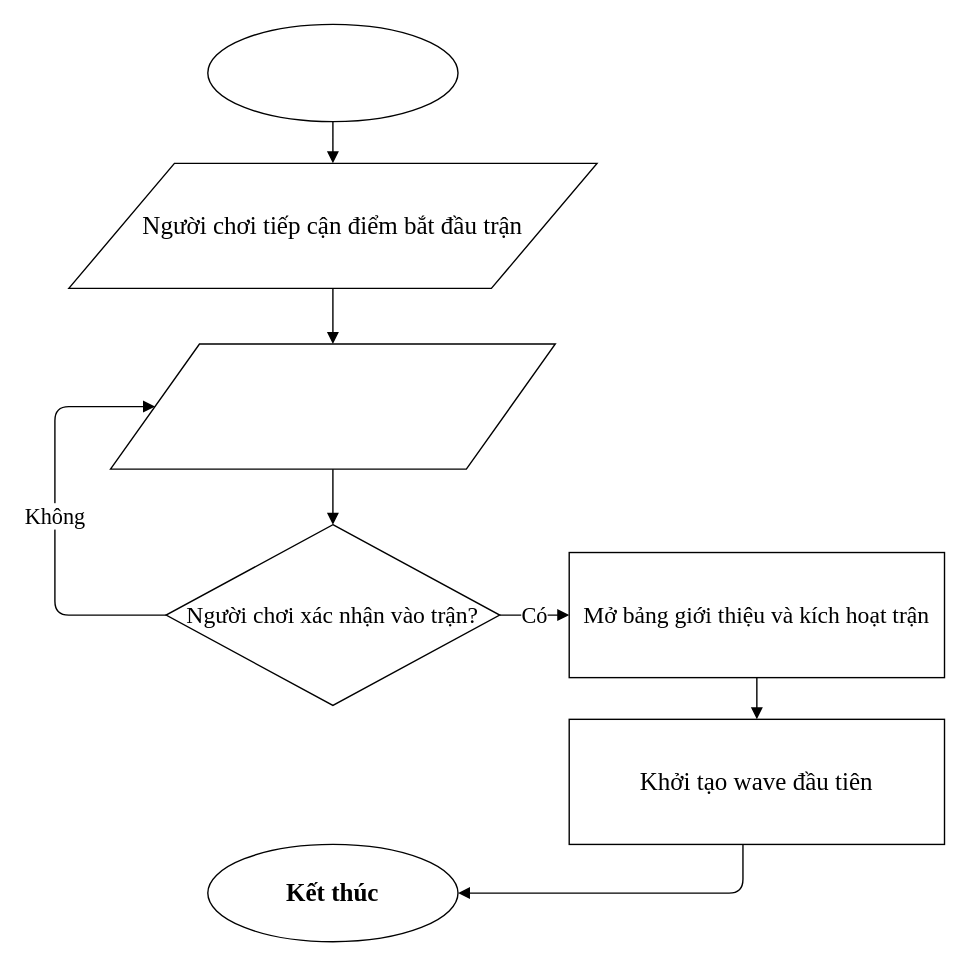
Image size: 969x966. Some labels were removed from this diagram. Here are the shapes that lost their labels. From the top down, the box of each, then its label:
(206, 23, 458, 122): Bắt đầu
(109, 343, 555, 469): Hiển thị hướng dẫn tương tác
